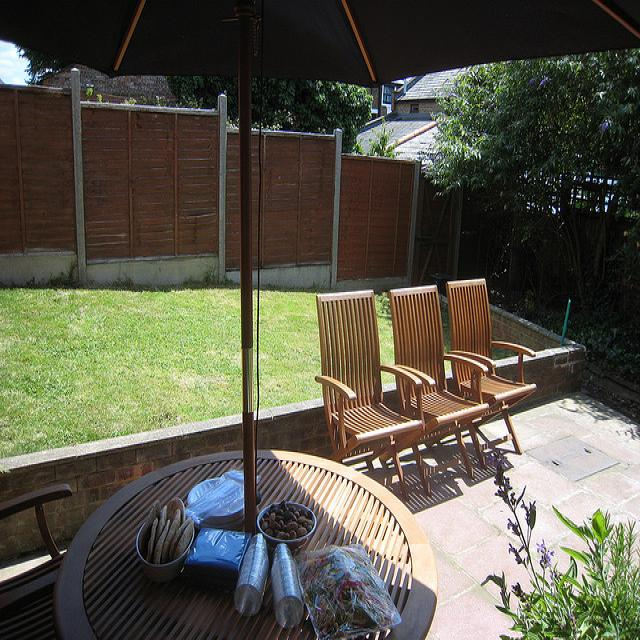chair: (313, 290, 422, 503), (389, 285, 489, 498), (445, 278, 537, 472), (0, 482, 72, 640)
dining table: (46, 449, 440, 632)
